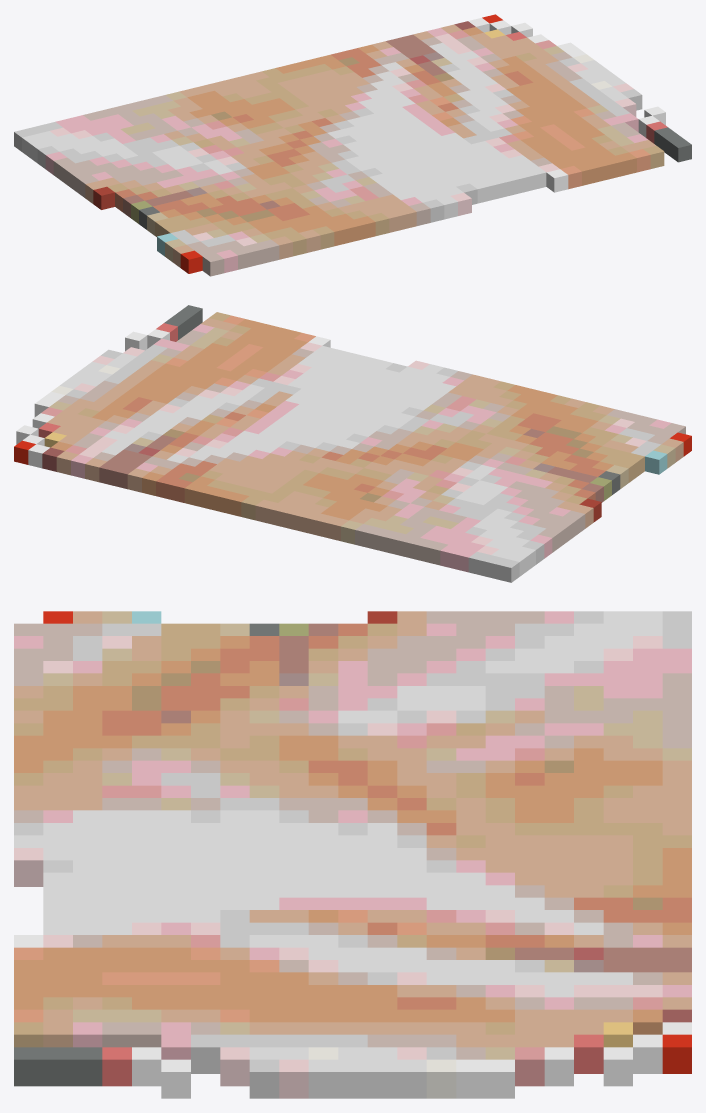
File: beda.vox-1-beda_p.obj
The picture shows the model from 3 angles, top to bottom: view 1: azimuth 30°, elevation 25°; view 2: azimuth 150°, elevation 25°; view 3: azimuth 270°, elevation 25°; orthographic projection. The views are drawn at different scales.
Parts seen in each view (by area): view 1: beda_p; view 2: beda_p; view 3: beda_p.
Part boxes in pixels (x1,y1,x2,y2): beda_p: (14,14,691,276); beda_p: (14,305,691,582); beda_p: (14,611,691,1098).
Bounding box in the file's own units: 3.7 × 0.1 × 2.3.
1 material, 1 textured.
